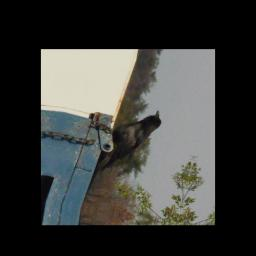Crow: (97, 102, 165, 180)
